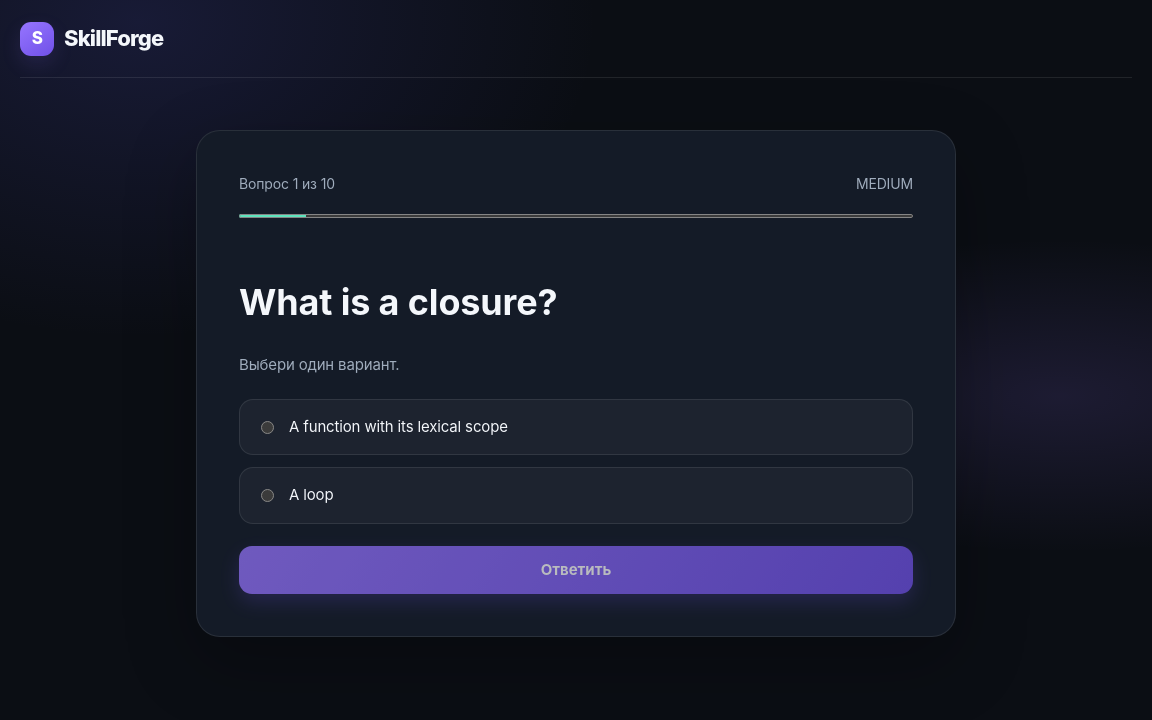
Test case: interview pages › submits an answer and advances to the next question
The image size is (1152, 720).
Click the radio button labelled "A function with its lexical scope".
click(268, 427)  # box [261,421,274,434]
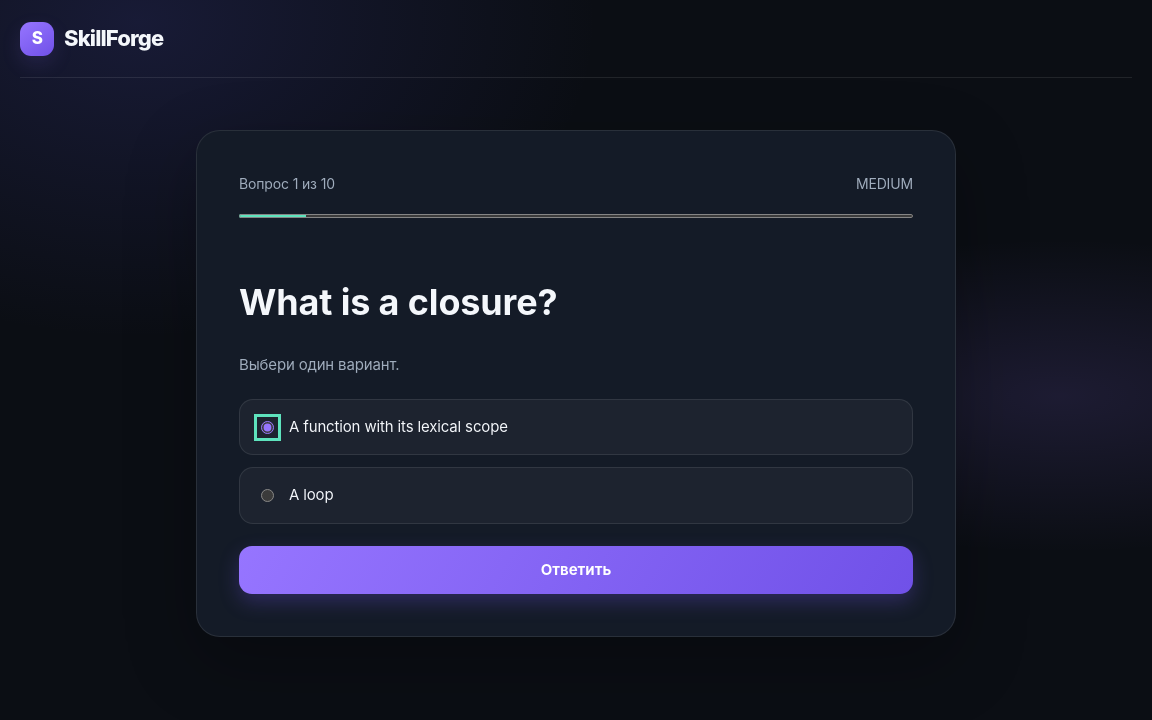
Click the button "Ответить".
click(576, 570)  # box [239,546,913,594]
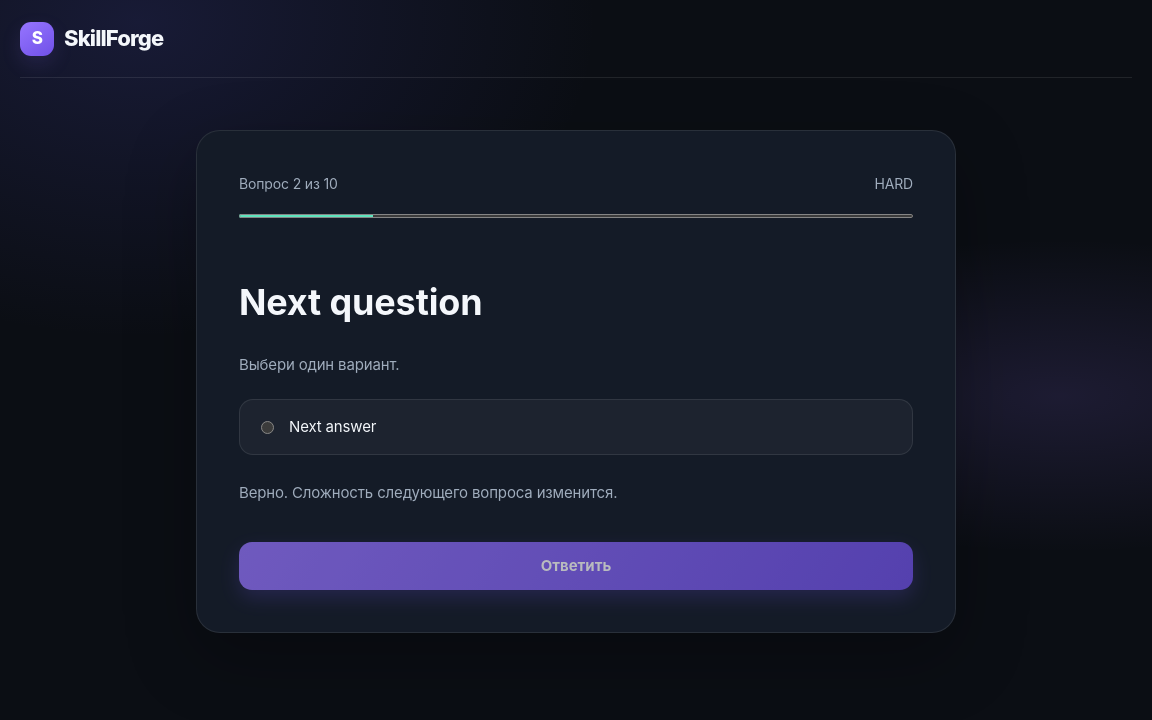
Expected: the heading "Next question" is shown, [239,280,482,324]
